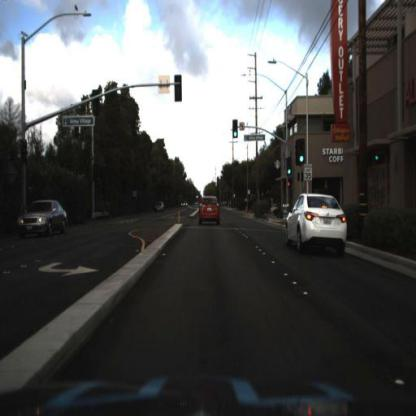car: (282, 193, 348, 262), (19, 199, 68, 239), (195, 194, 226, 230)
trafficLight-Green: (231, 124, 241, 143), (300, 149, 305, 167), (287, 167, 293, 178)
